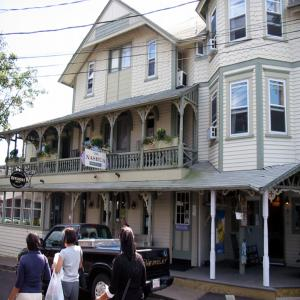Vehicle-registration-plate: (154, 279, 161, 288)
